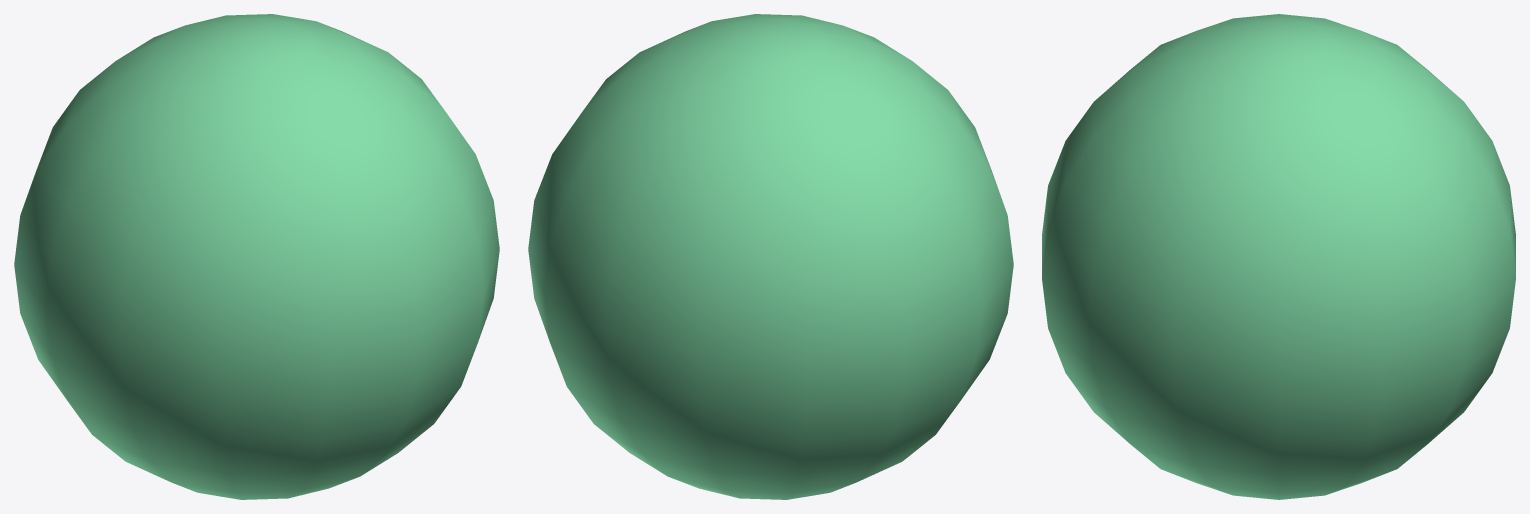
The model's file is Regen rune_2.fbx.
3 renders of one model, left to right at view 1: azimuth 30°, elevation 25°; view 2: azimuth 150°, elevation 25°; view 3: azimuth 270°, elevation 25°, orthographic.
Parts seen in each view (by area): view 1: pSphere1; view 2: pSphere1; view 3: pSphere1.
Part boxes in pixels (x1,y1,x2,y2): pSphere1: [14, 14, 499, 499]; pSphere1: [528, 14, 1013, 499]; pSphere1: [1042, 14, 1515, 499].
Bounding box in the file's own units: 2 × 2 × 1.95.
